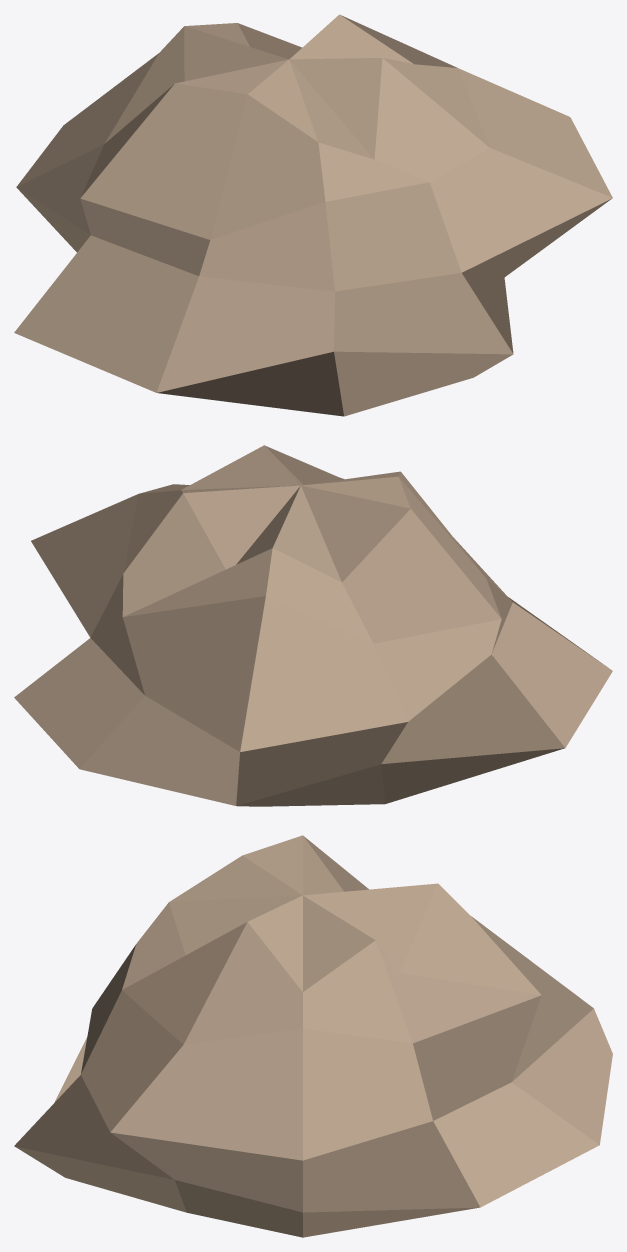
The model's file is rock.glb.
3 renders of one model, top to bottom at view 1: azimuth 30°, elevation 25°; view 2: azimuth 150°, elevation 25°; view 3: azimuth 270°, elevation 25°, orthographic. The views are drawn at different scales.
Parts seen in each view (by area): view 1: Rock; view 2: Rock; view 3: Rock.
Boxes of the visible parts, left/top/right/bottom form: Rock: left=14, top=14, right=612, bottom=416; Rock: left=14, top=445, right=612, bottom=806; Rock: left=14, top=835, right=612, bottom=1237.
Bounding box in the file's own units: 2.28 × 0.9961 × 2.12.
